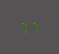seven: (19, 20, 28, 34), (29, 20, 38, 33)
